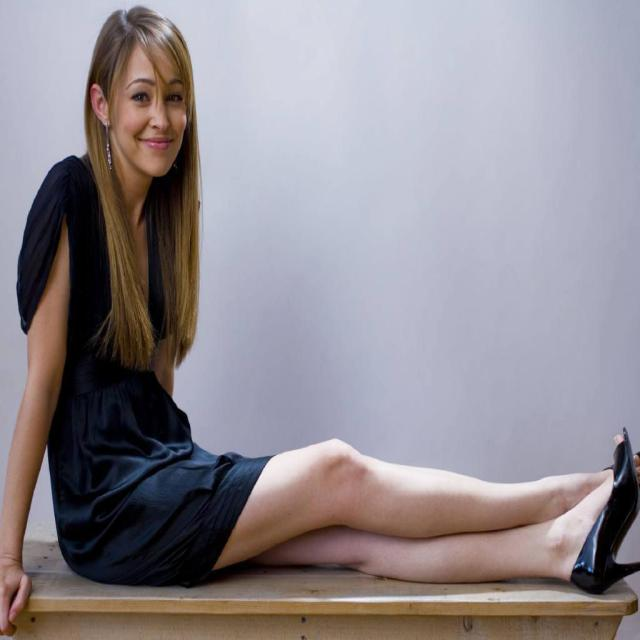no-earmuff: (80, 68, 122, 140)
